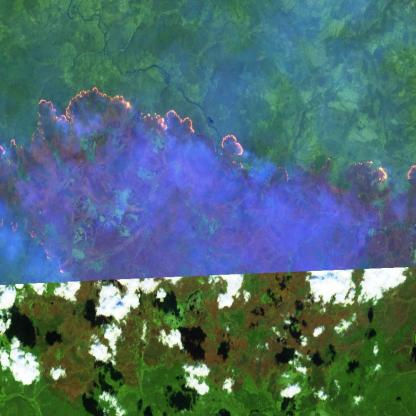fire: (0, 78, 416, 281)
